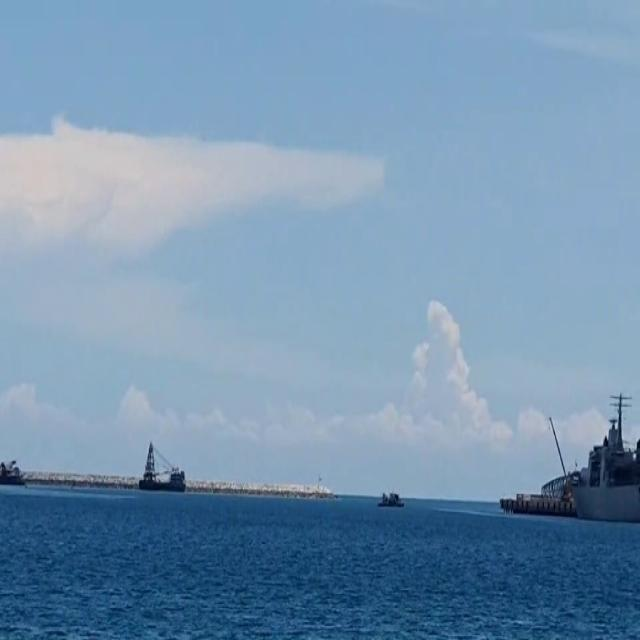civilianship: (136, 428, 190, 506)
warship1: (488, 385, 640, 524)
